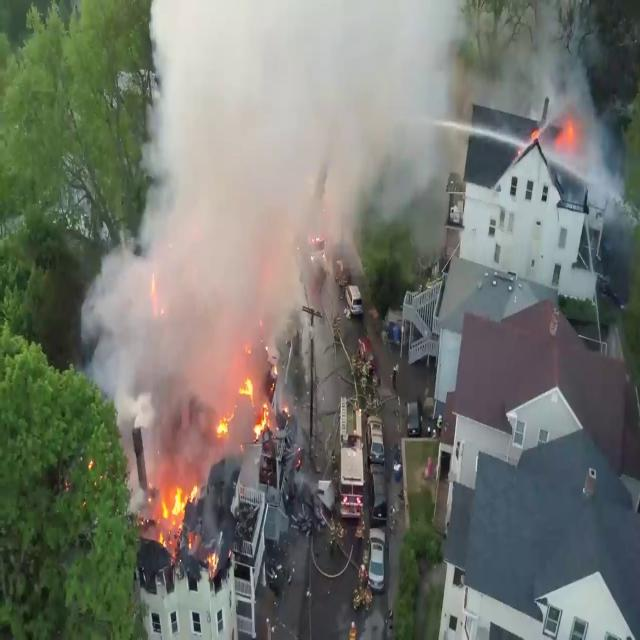Fire: (215, 370, 281, 444), (155, 475, 200, 540)
Smoke: (78, 0, 485, 397), (555, 35, 629, 221)
